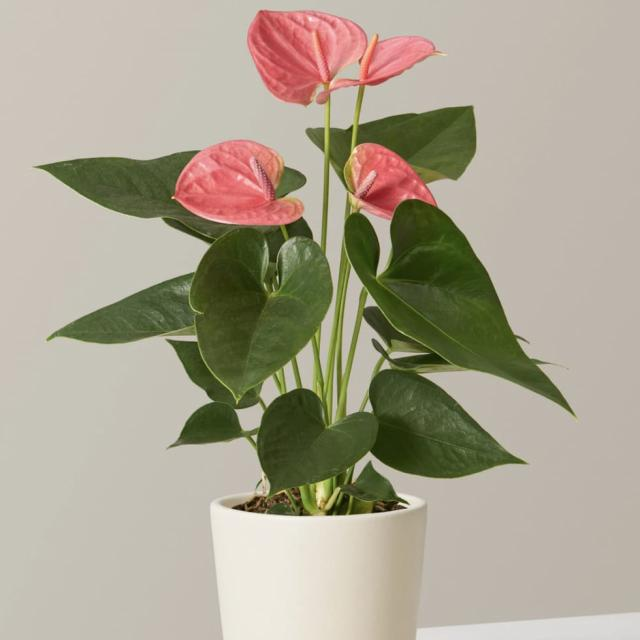Plants: (23, 12, 590, 494)
